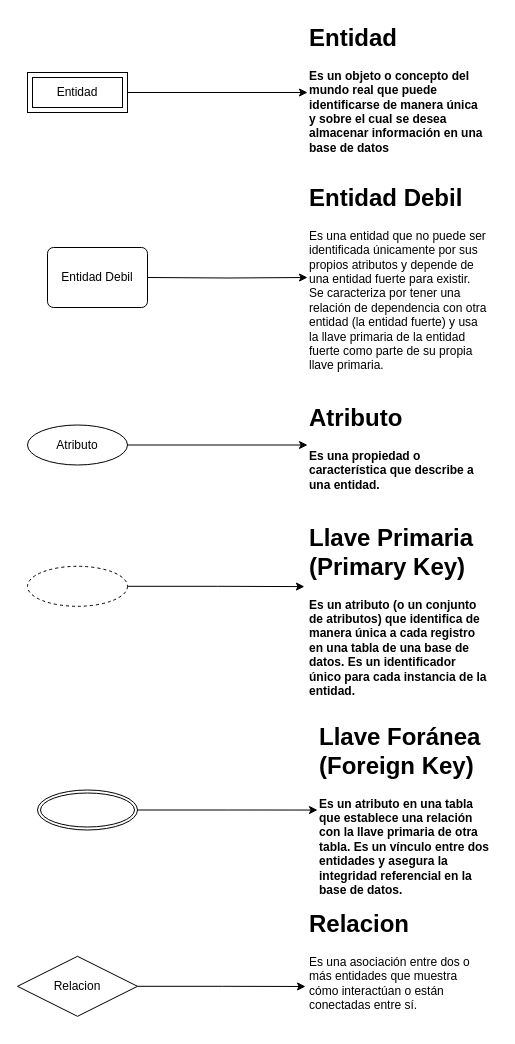
Some shapes in this 515 by 1044 pixel diagram are drawn without their labels. The centre of each missing label's shape, as x and y in pixels:
Llave foranera: point (87, 809)
Llave Primaria: point (77, 585)
